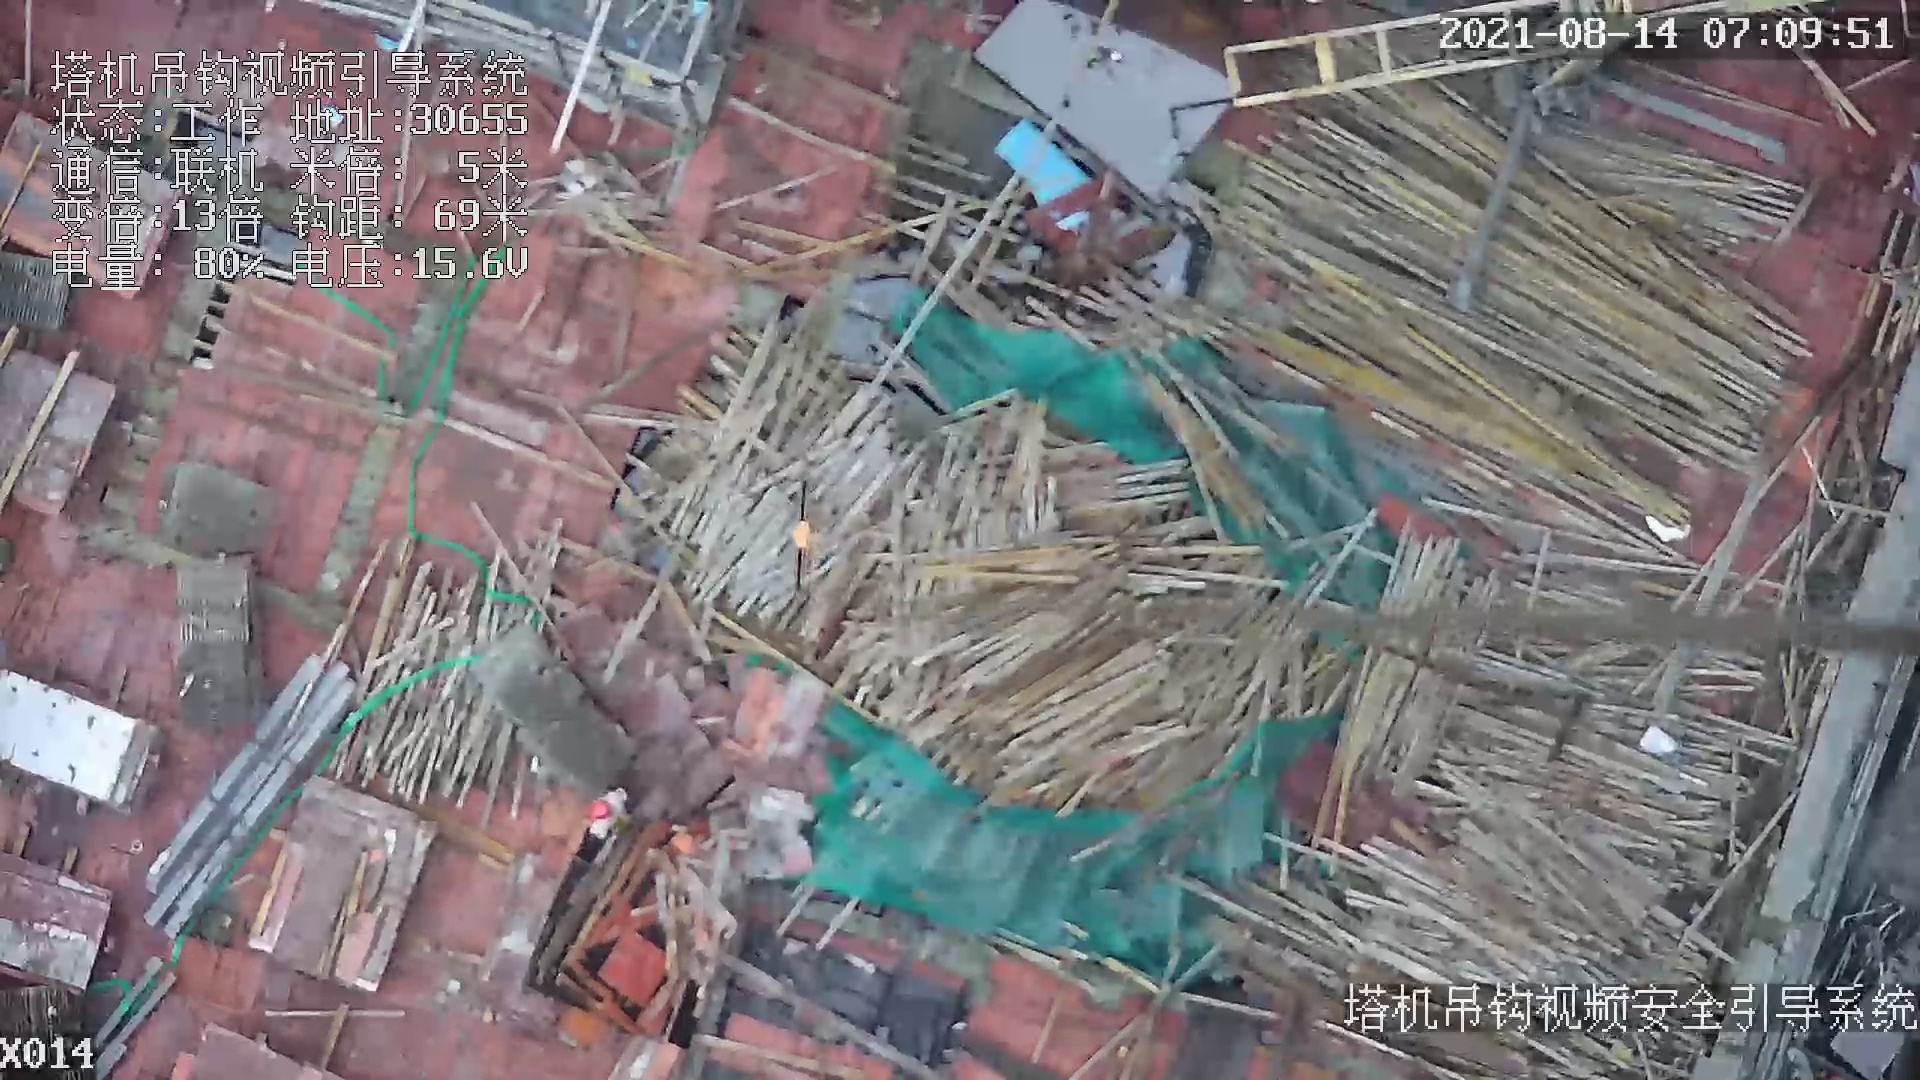helmet: (589, 802, 613, 821)
hook: (787, 478, 818, 600)
person: (583, 792, 641, 845)
